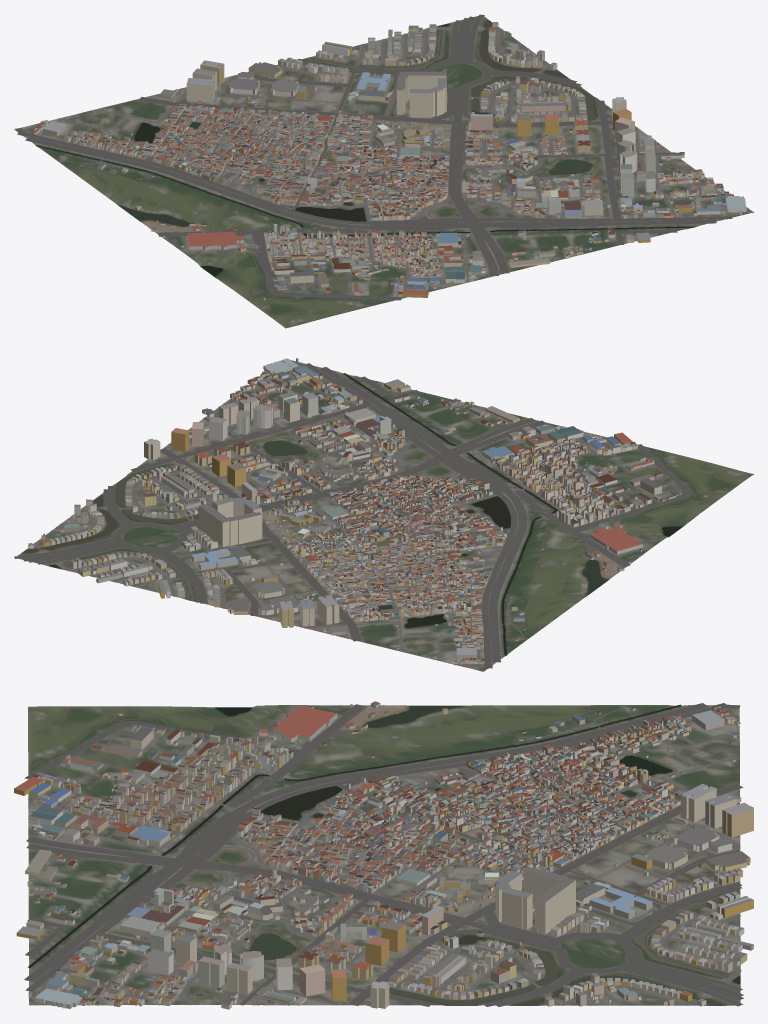
3 renders of one model, top to bottom at view 1: azimuth 30°, elevation 25°; view 2: azimuth 150°, elevation 25°; view 3: azimuth 270°, elevation 25°, orthographic. The views are drawn at different scales.
Visible parts, largest first — view 1: buildings, ground, roads, water; view 2: buildings, ground, roads, water; view 3: buildings, ground, roads, water.
Part boxes in pixels (x1,y1,x2,y2): buildings: (29,22,746,299); ground: (14,16,753,328); roads: (14,14,749,327); water: (36,20,694,276); buildings: (28,358,706,664); ground: (17,359,753,671); roads: (14,362,753,671); water: (22,373,682,655); buildings: (14,701,753,1009); ground: (28,705,740,1005); roads: (24,703,743,1006); water: (28,704,740,1005).
Bounding box in the file's own units: 1432 × 77.82 × 1458.
